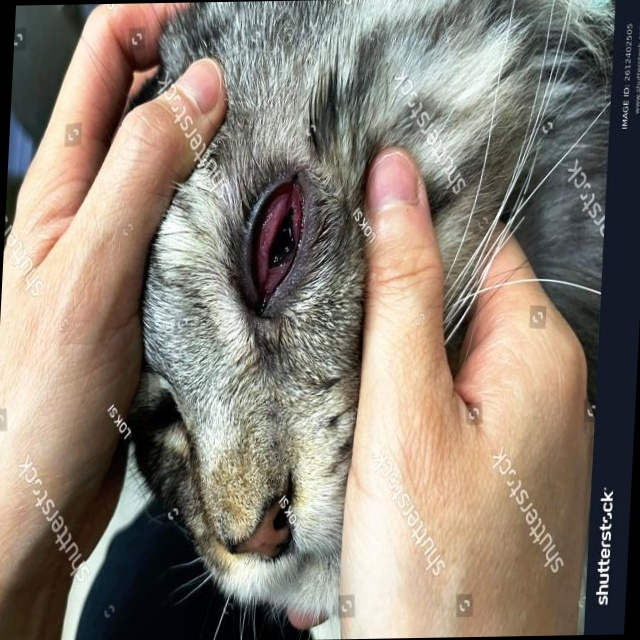eye_infection: (244, 174, 308, 306)
